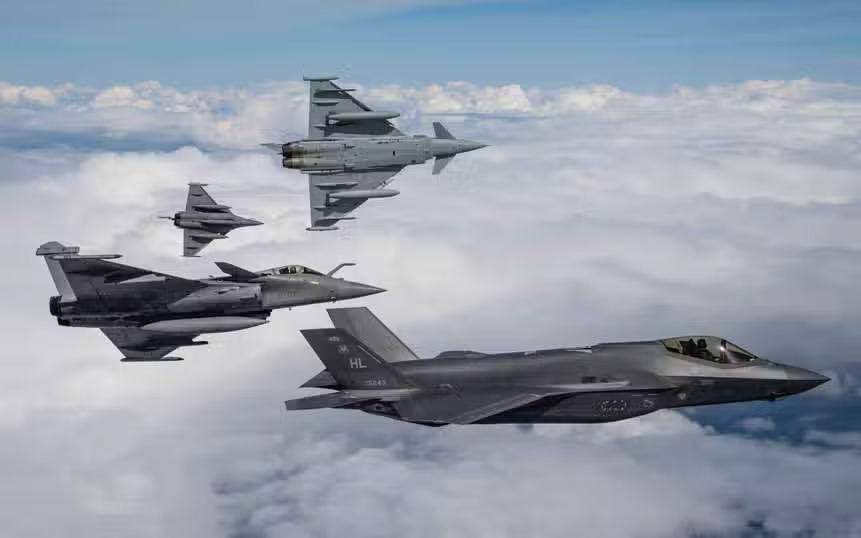F35: (289, 309, 823, 425)
Rafale: (35, 242, 378, 365), (157, 181, 263, 258)
